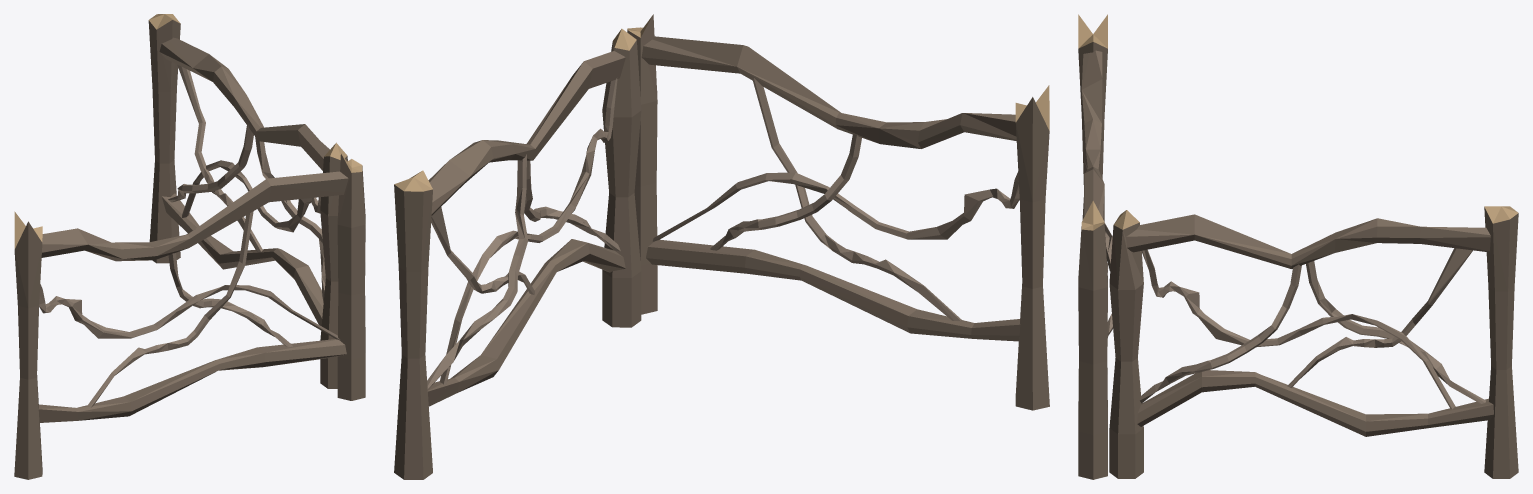
Rendered from _FENSE_CORNER.fbx.
The picture shows the model from 3 angles, left to right: view 1: azimuth 30°, elevation 25°; view 2: azimuth 150°, elevation 25°; view 3: azimuth 270°, elevation 25°; orthographic projection. The views are drawn at different scales.
Parts seen in each view (by area): view 1: FENSE_CORNER_4; view 2: FENSE_CORNER_4; view 3: FENSE_CORNER_4.
Boxes of the visible parts, x1,y1,x2,y2 form: FENSE_CORNER_4: (14,14,365,479); FENSE_CORNER_4: (394,14,1049,479); FENSE_CORNER_4: (1078,14,1518,479).
Bounding box in the file's own units: 217 × 147 × 207.
